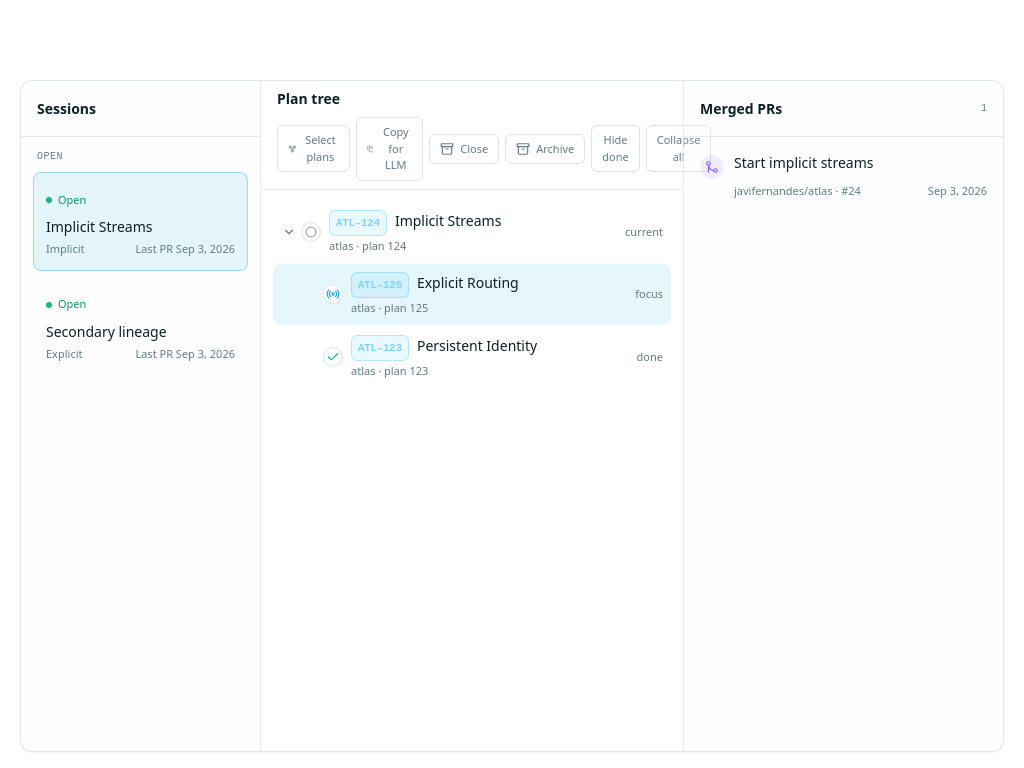
it: ExecutionStreamView › scopes inline fork selection to the currently selected Session
Click the button "Select plans" at (313, 149), box [277,125,350,172]
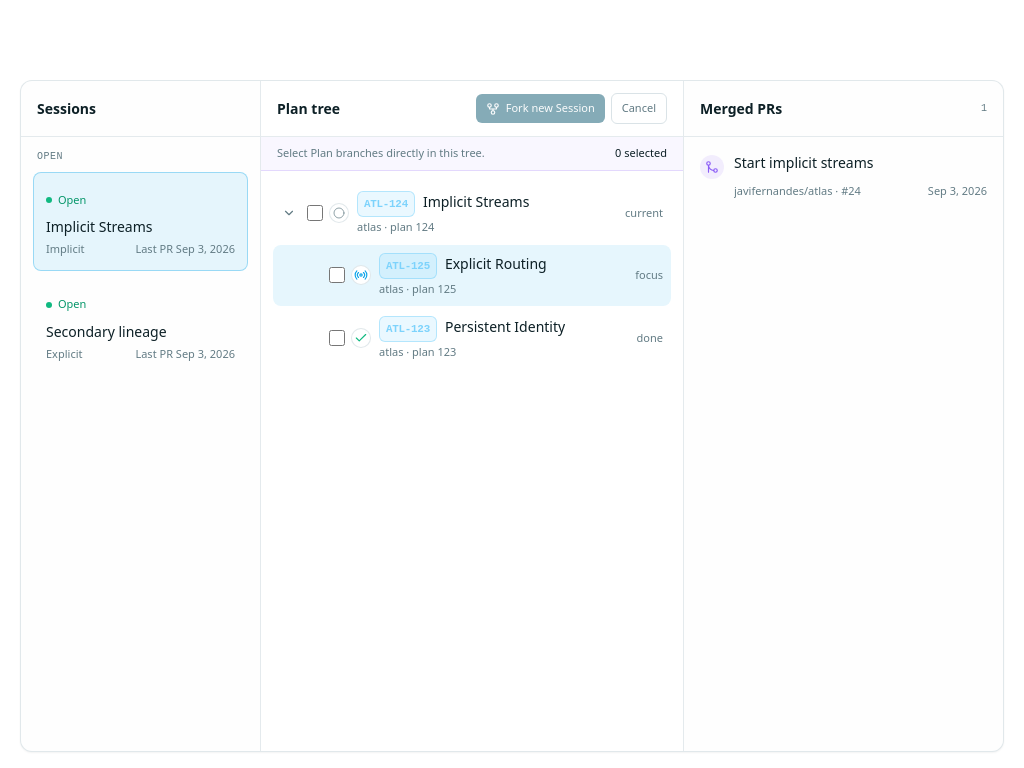
Click the checkbox named "Select Persistent Identity to fork" at (337, 338), box [329,330,345,346]
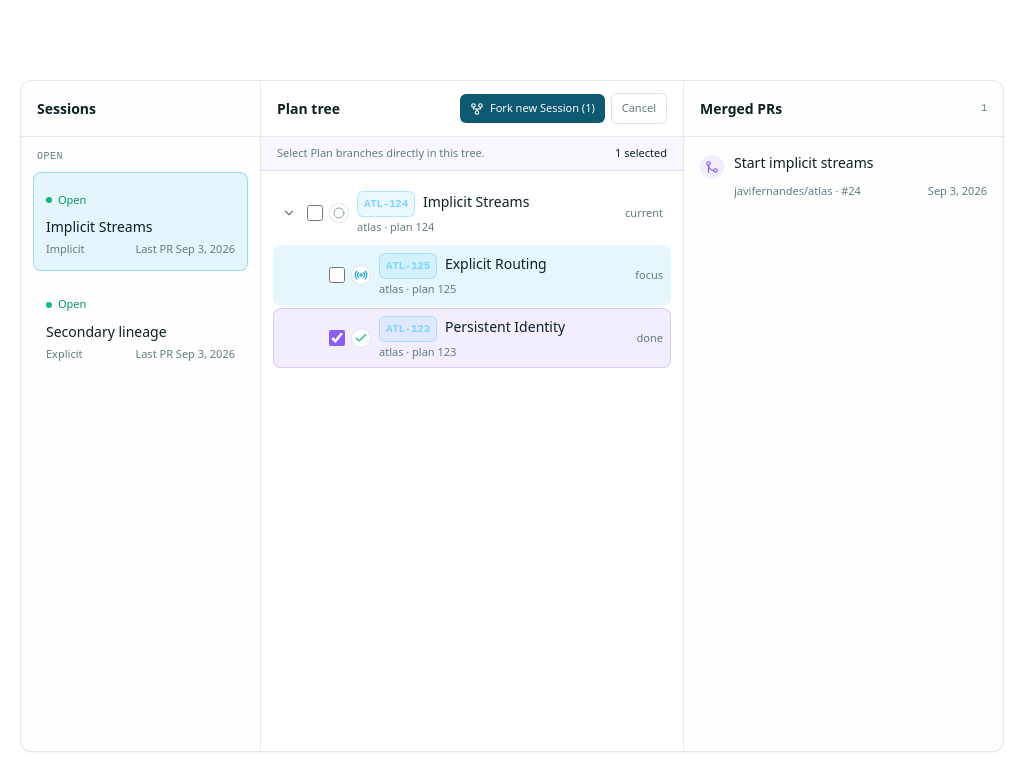
Click the button "Open Secondary lineage Explicit Last PR Sep 3, 2026" at (140, 326), box [33,276,248,375]
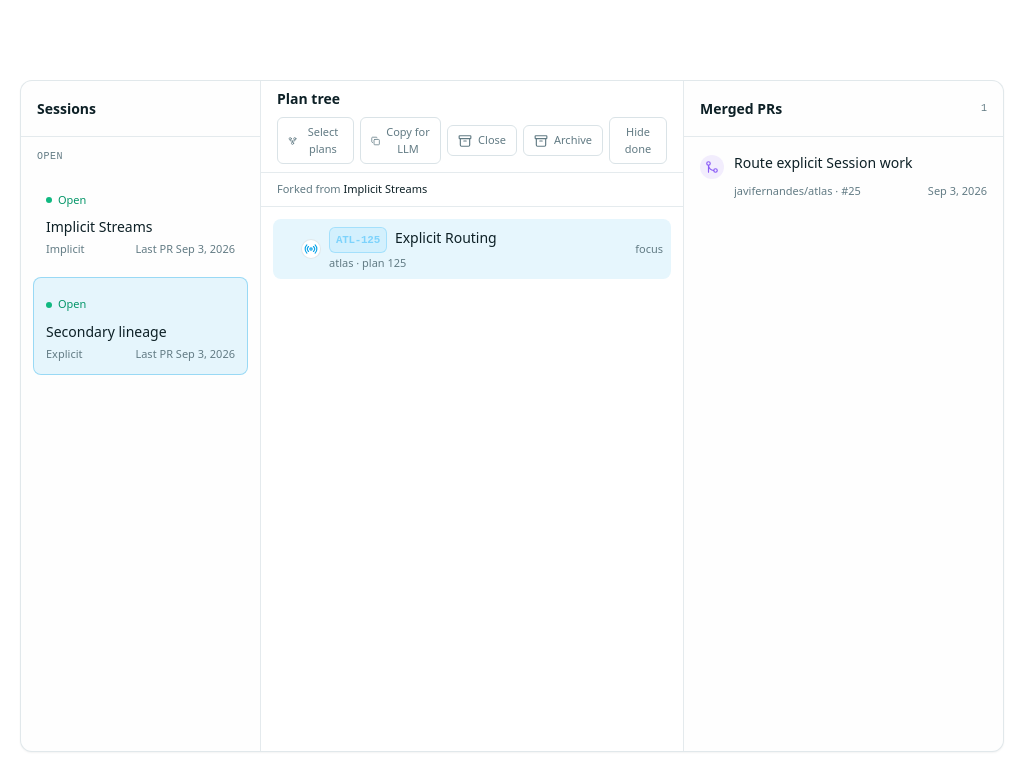
Click the button "Select plans" at (315, 140), box [277,117,354,164]
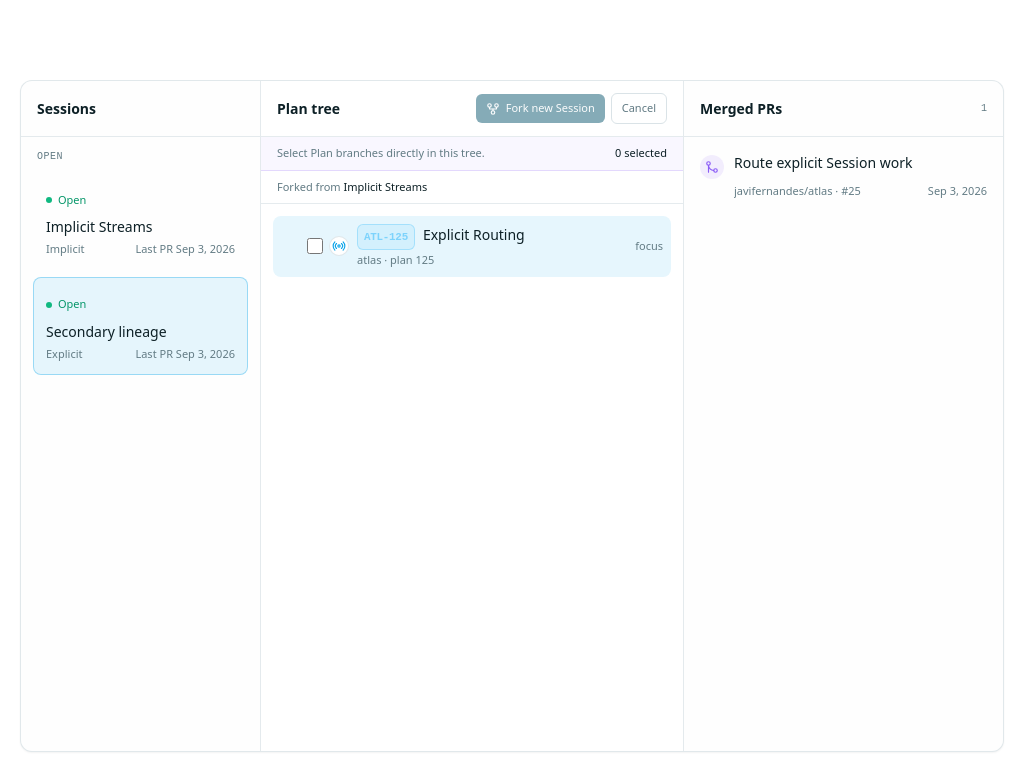
Result: the checkbox named "Select Explicit Routing to fork" is not checked at [307,238,323,254]
Result: the button "Fork new Session" is disabled at [476,94,605,123]
